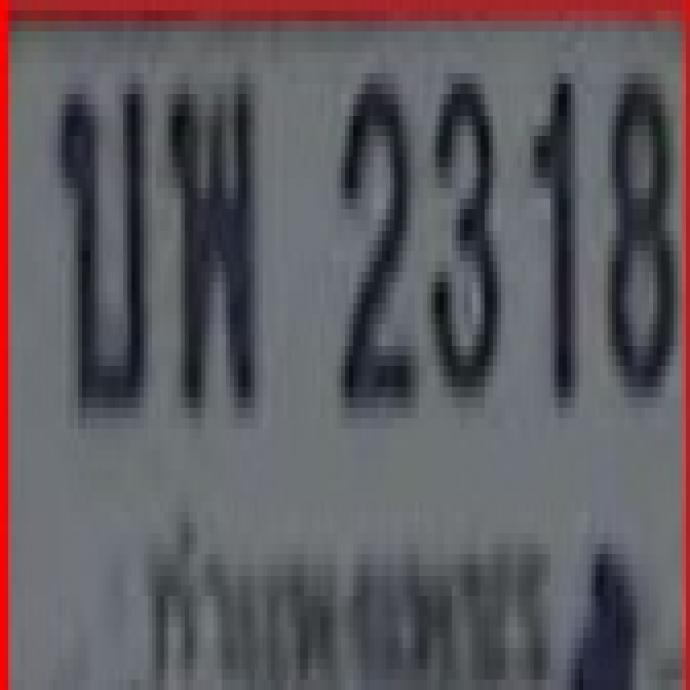1: (528, 63, 571, 397)
2: (334, 67, 409, 399)
3: (425, 64, 494, 390)
8: (602, 64, 669, 388)
A26: (54, 74, 143, 408)
A30: (164, 74, 251, 403)
KPT: (132, 498, 557, 689)
